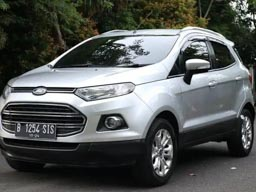plat: (13, 120, 56, 134)
